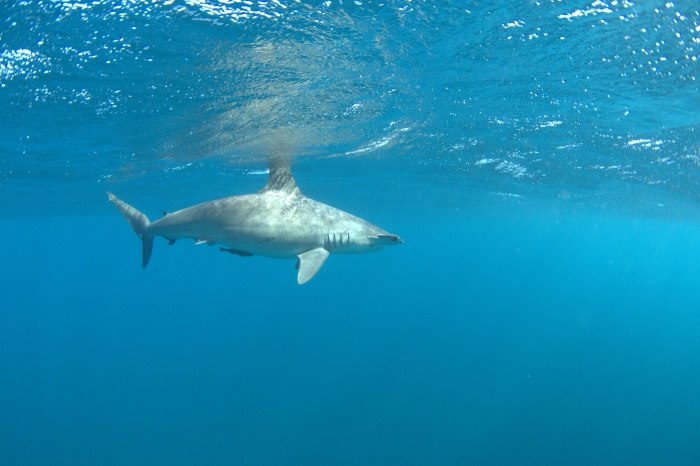Hammer: (99, 151, 410, 294)
